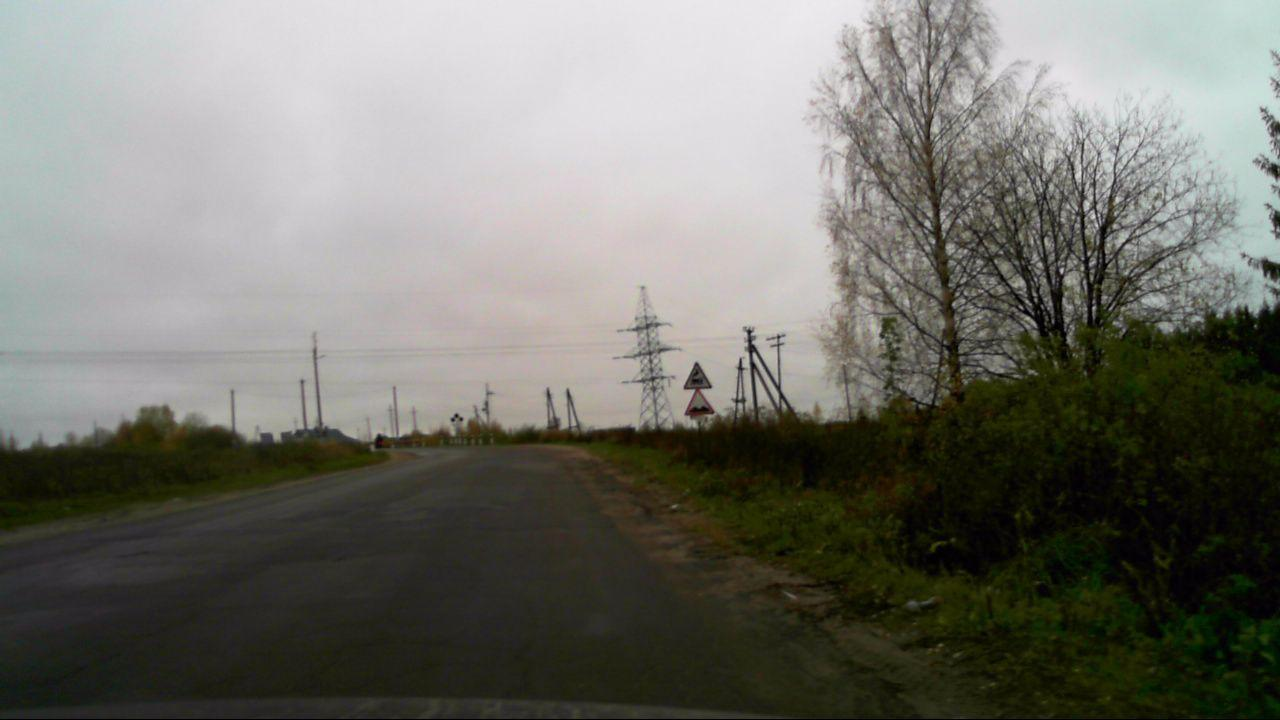1_16: (683, 387, 716, 417)
1_2: (681, 361, 715, 388)
